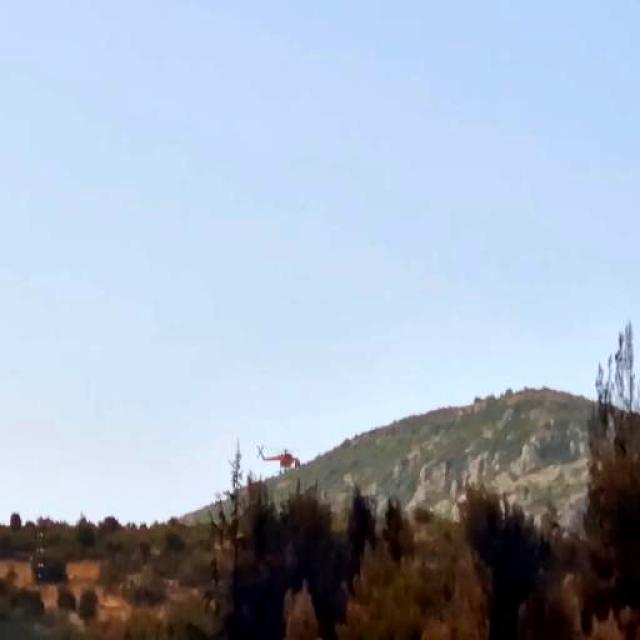drone: (252, 438, 302, 475)
